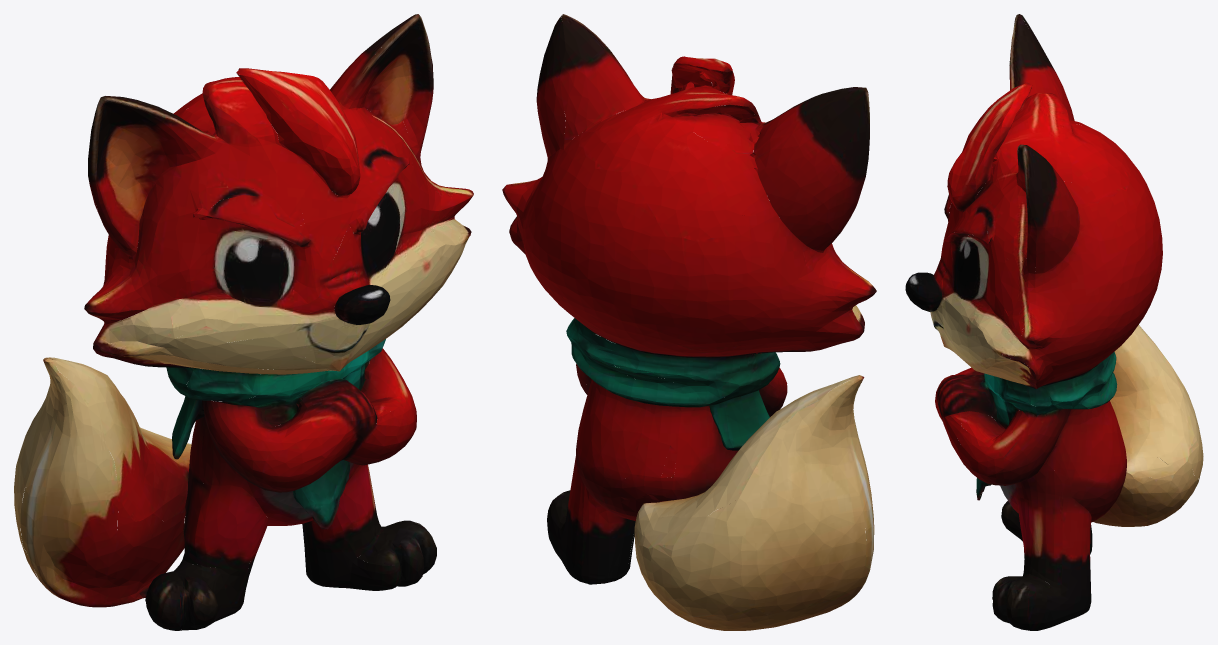
Rendered from char-Twix.glb.
The picture shows the model from 3 angles, left to right: view 1: azimuth 30°, elevation 25°; view 2: azimuth 150°, elevation 25°; view 3: azimuth 270°, elevation 25°; orthographic projection. The views are drawn at different scales.
Parts seen in each view (by area): view 1: geometry_0.029; view 2: geometry_0.029; view 3: geometry_0.029.
Boxes of the visible parts, x1,y1,x2,y2 form: geometry_0.029: (14, 14, 473, 630); geometry_0.029: (502, 14, 876, 630); geometry_0.029: (905, 14, 1203, 630).
Size of the model in its own units: 0.7748 by 0.999 by 0.5512.
1 material, 1 textured.
